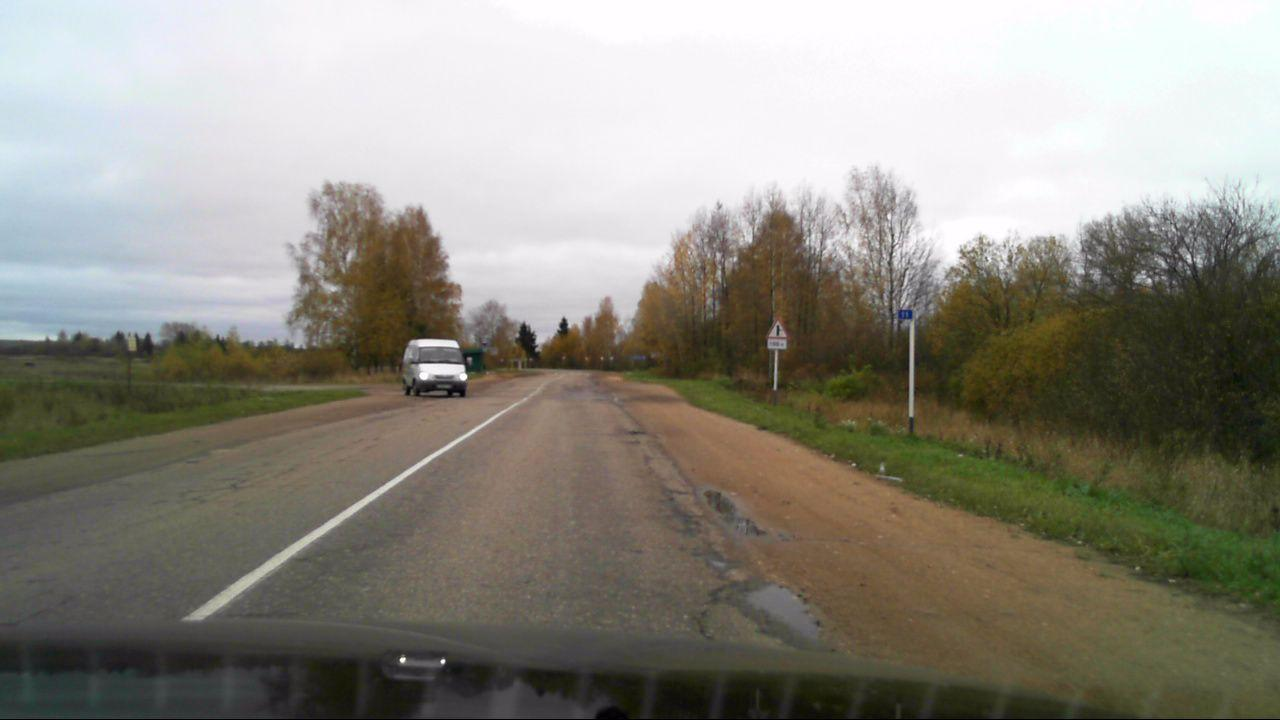road_sign: (765, 316, 790, 338)
